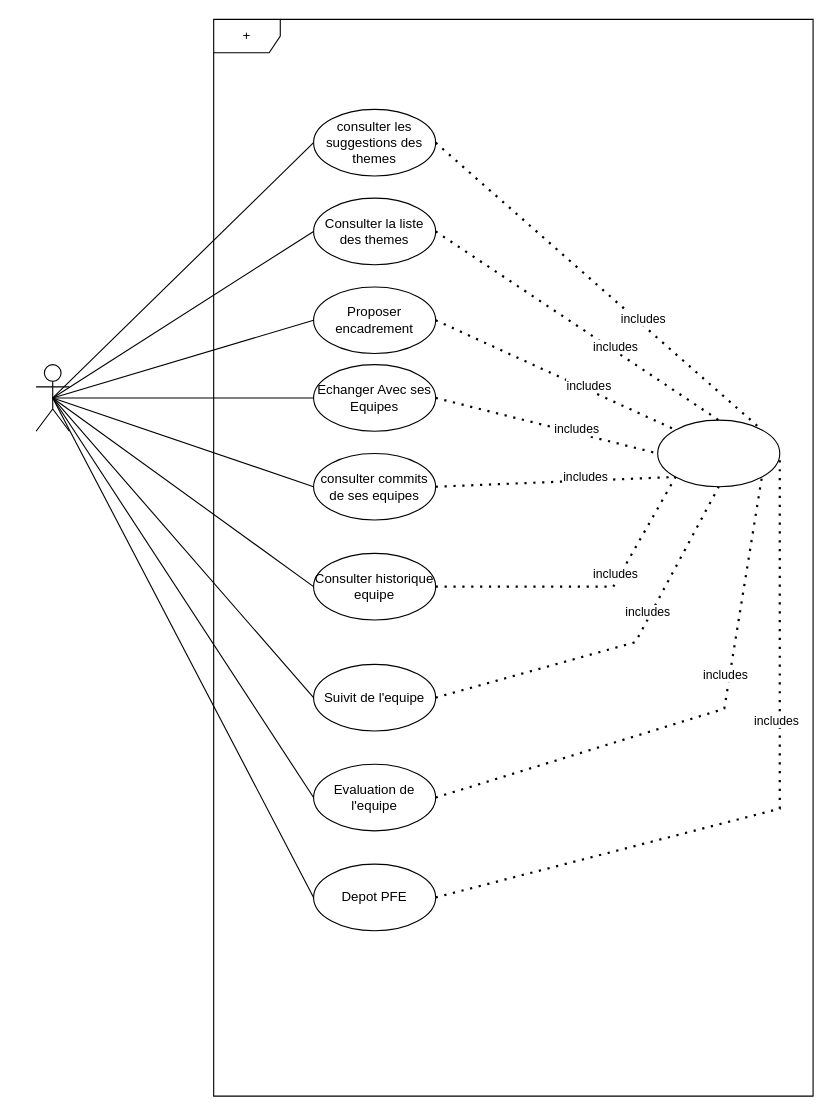
Some shapes in this 833 by 1116 pixel diagram are drawn without their labels. The shapes that lost their labels are listed below. From the top down, each one's centre as x and y in pixels, then its label:
pixel 52 397: Enseignant
pixel 718 453: S'authentifier
